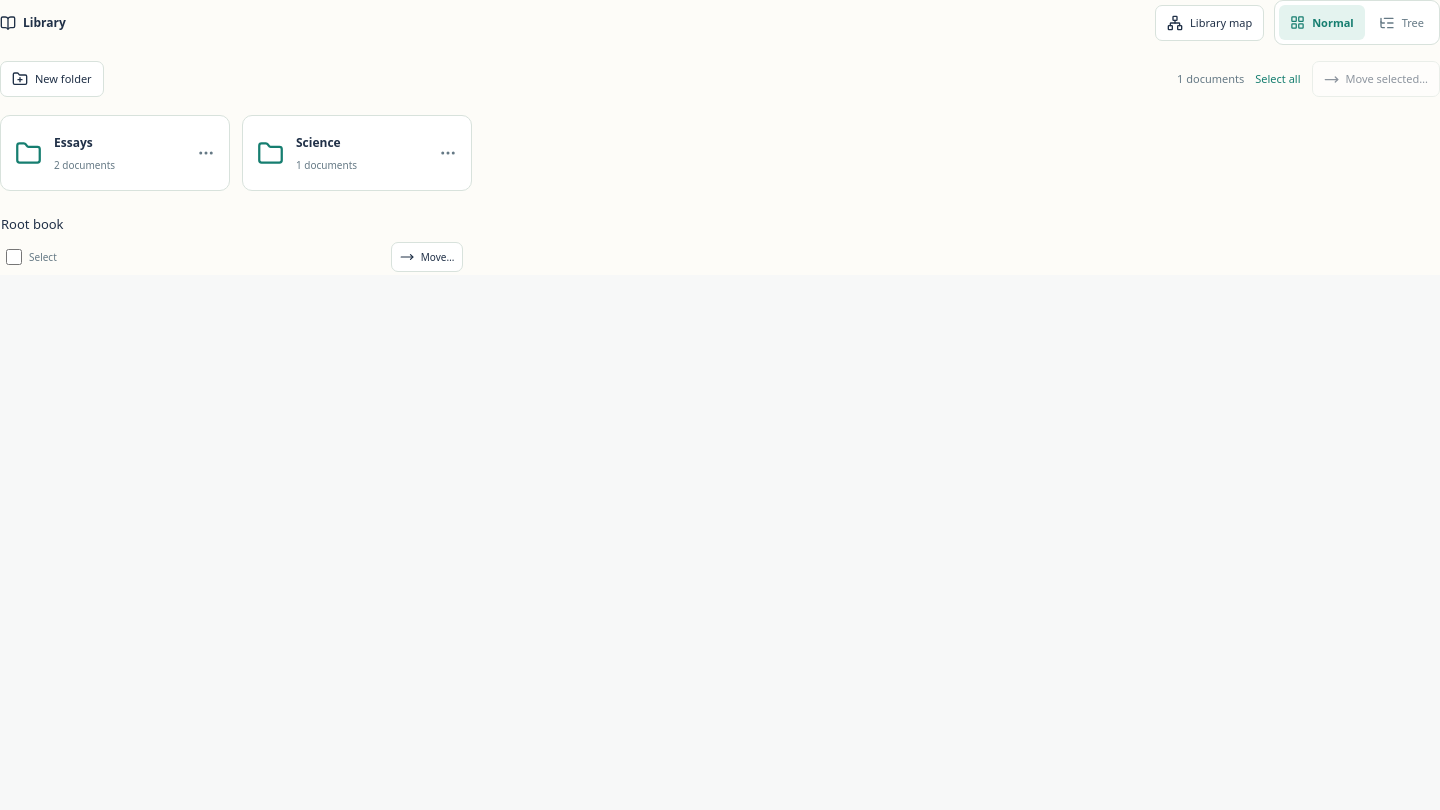
Test: library folder mutations and dialog lifecycle › moves a multi-selection across tree branches to root and clears the selection
Click the button "Tree": (1401, 22) [1368,5,1435,40]
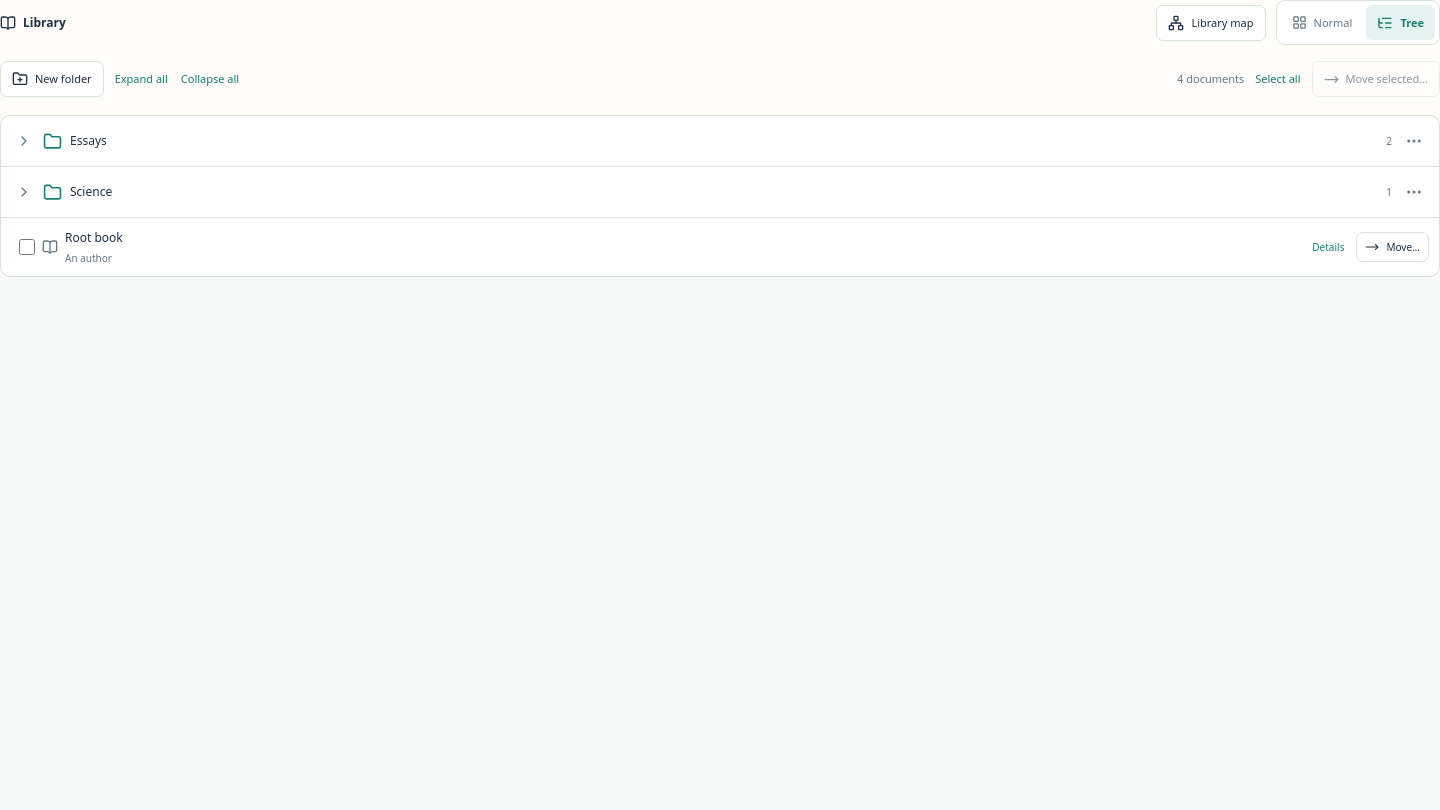
Click the button named "Expand Essays": (24, 141) [11,126,36,156]
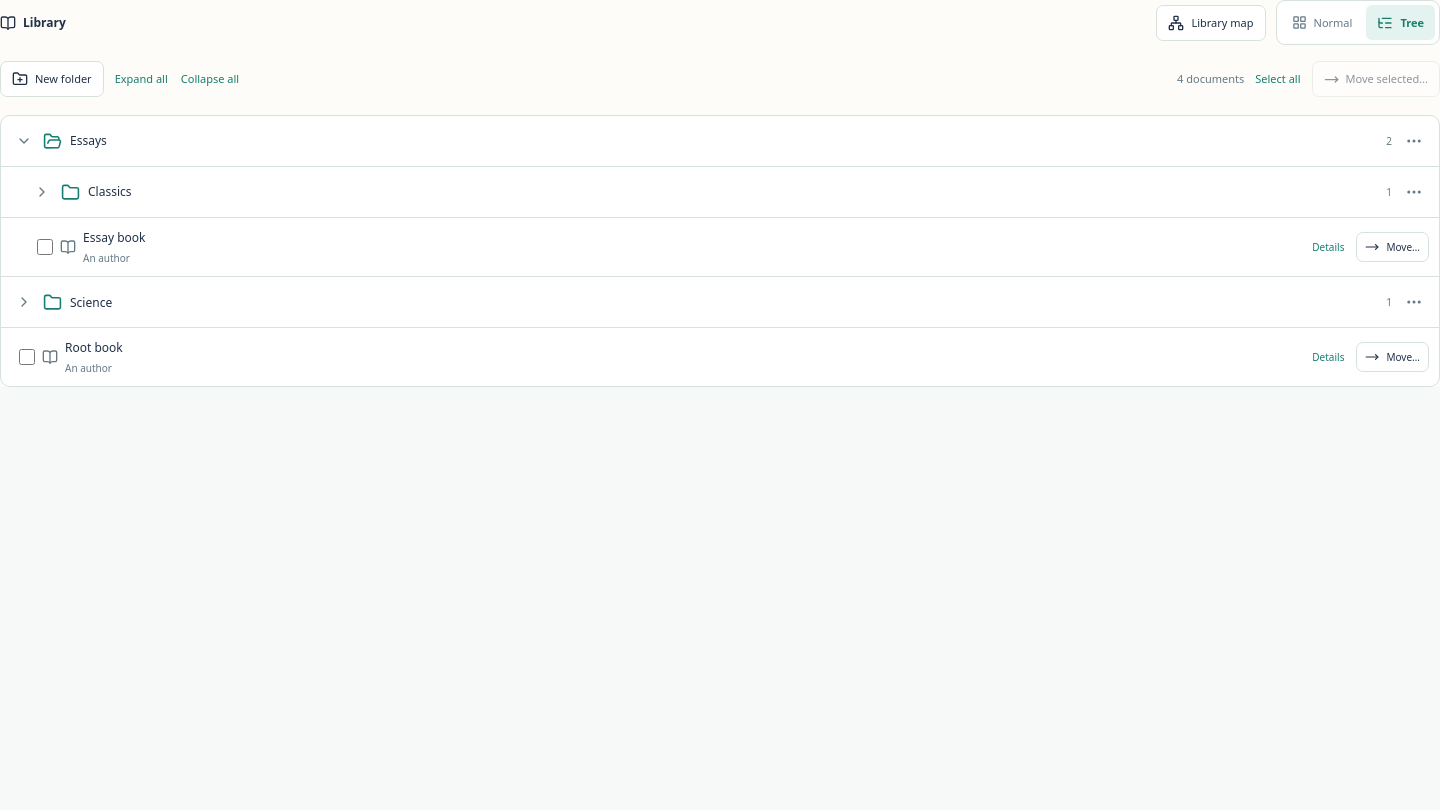
Click the checkbox named "Select Root book": (27, 357) [19,349,35,365]
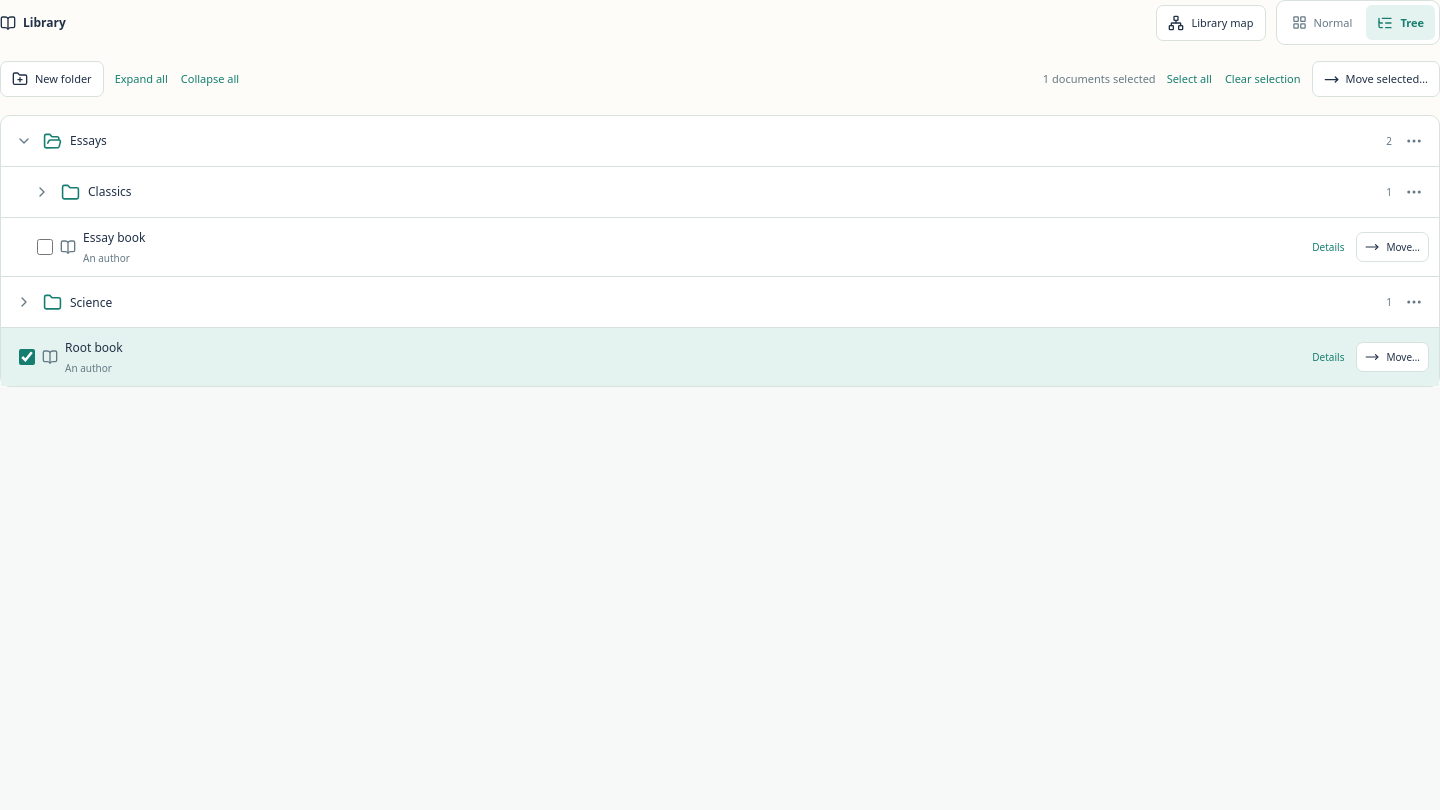
Click the checkbox named "Select Essay book": (45, 247) [37,239,53,255]
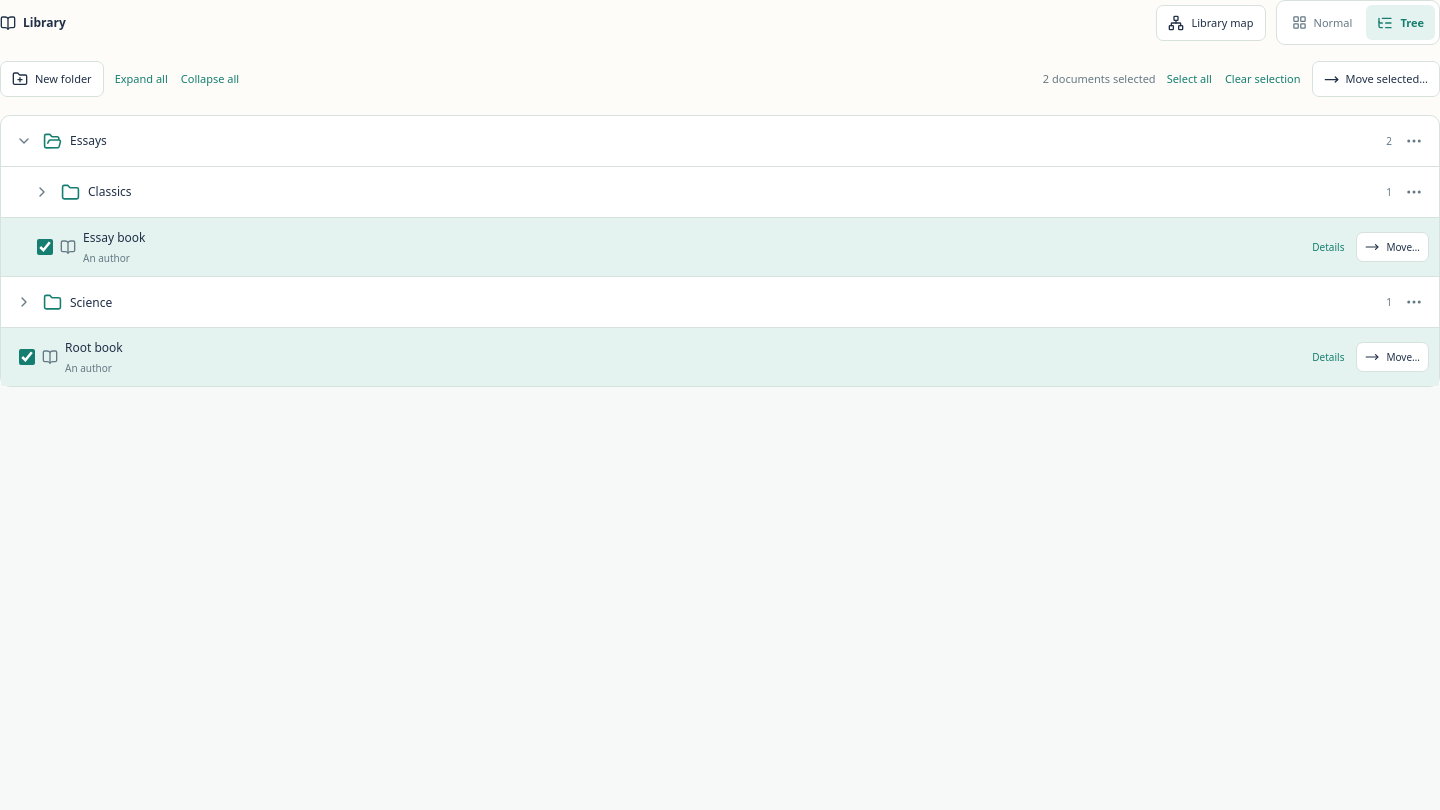
Click the button "Move selected…": (1376, 79) [1312,61,1439,97]
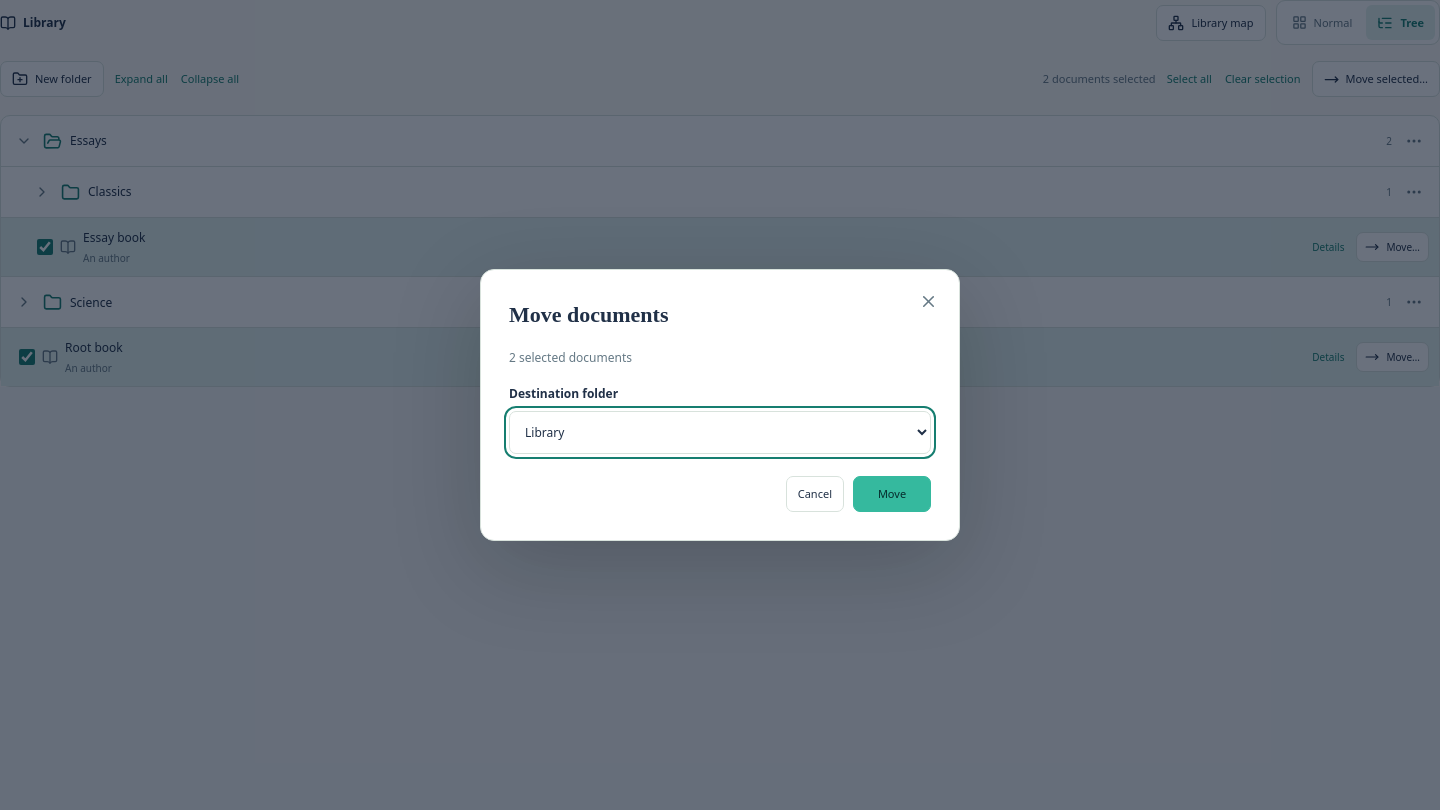
Select "Library" in the dropdown labelled "Destination folder": (720, 433) [509,411,931,454]
Click the button "Move": (892, 494) [853,476,931,512]
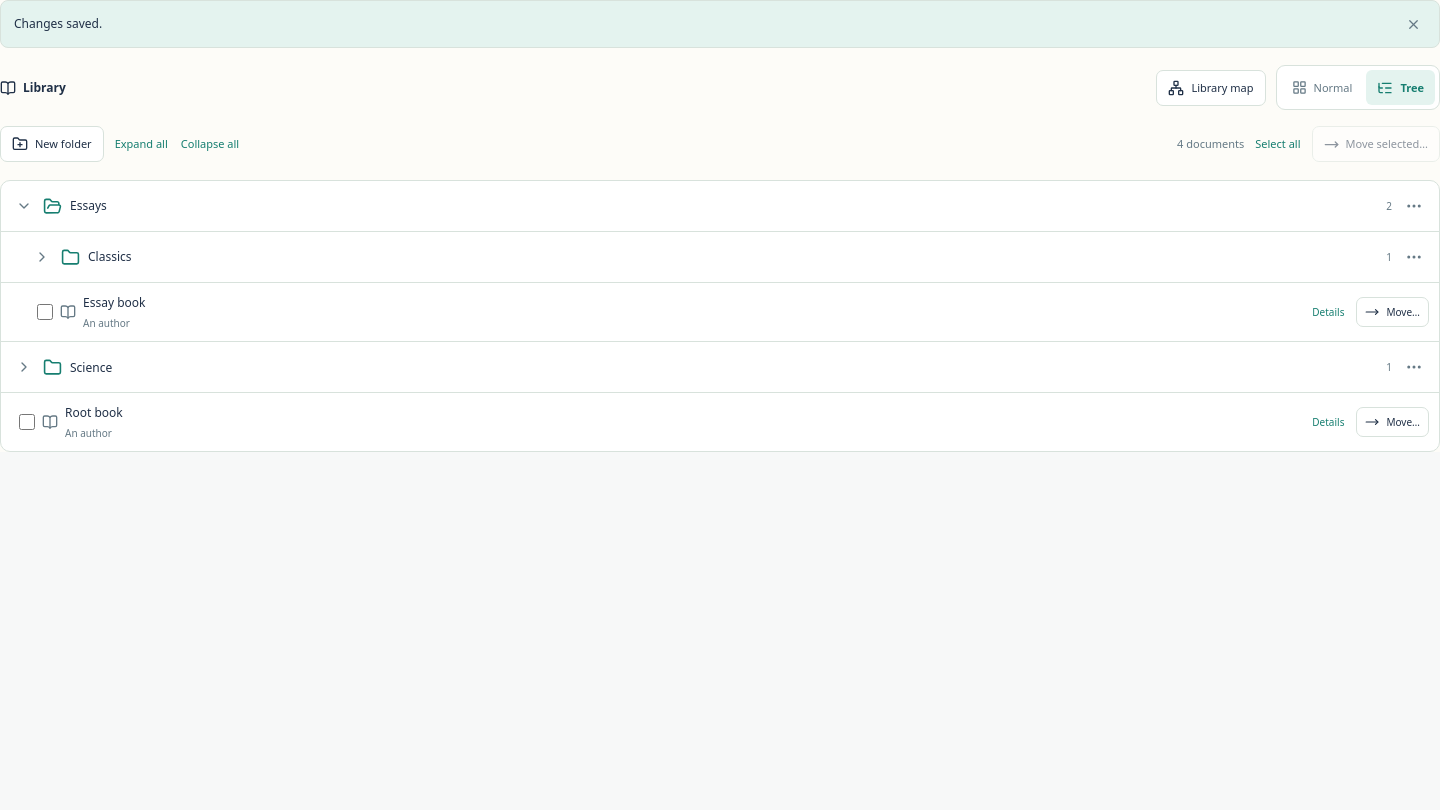
Expected: the checkbox named "Select Root book" is not checked, [19,414,35,430]
Expected: the dialog is gone
Expected: the button "Move selected…" is disabled, [1312,126,1439,162]
